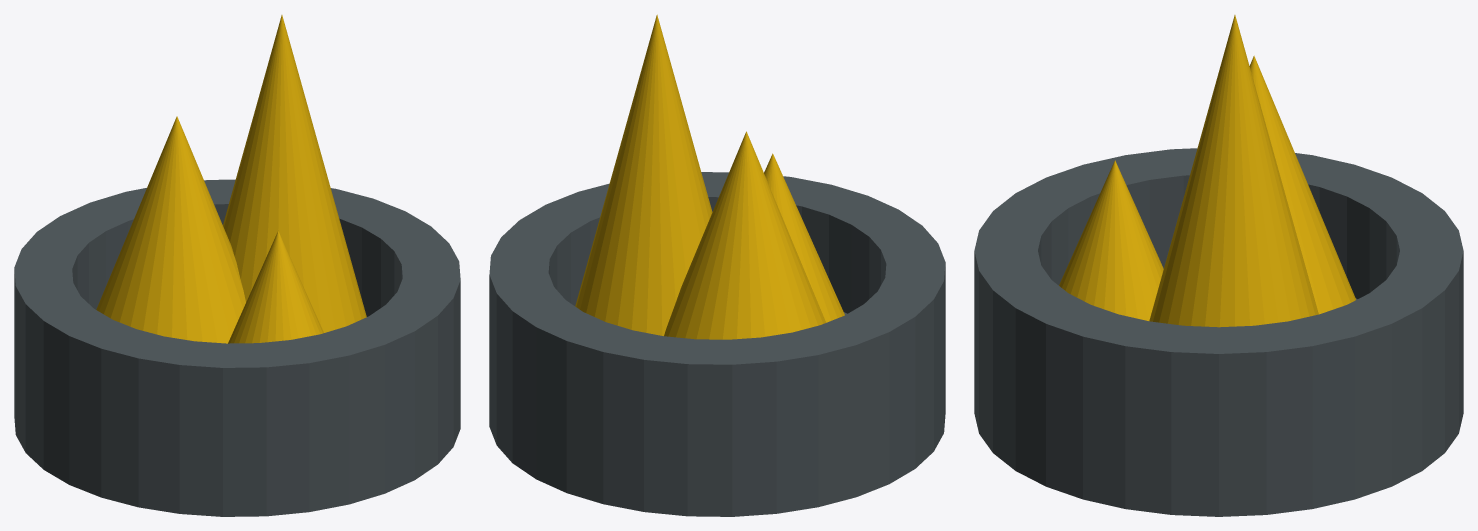
Rendered from fireplace.fbx.
3 views of the same model, side by side, from view 1: azimuth 30°, elevation 25°; view 2: azimuth 150°, elevation 25°; view 3: azimuth 270°, elevation 25° (orthographic). The views are drawn at different scales.
Parts seen in each view (by area): view 1: Cylinder, Cone.002; view 2: Cylinder, Cone.002; view 3: Cylinder, Cone.002.
Boxes of the visible parts, x1=… form: Cylinder: x1=14, y1=179, x2=460, y2=516; Cone.002: x1=96, y1=15, x2=366, y2=343; Cylinder: x1=489, y1=172, x2=945, y2=516; Cone.002: x1=575, y1=14, x2=844, y2=339; Cylinder: x1=974, y1=148, x2=1463, y2=516; Cone.002: x1=1059, y1=15, x2=1355, y2=327.
Size of the model in its own units: 200 by 193 by 200.
